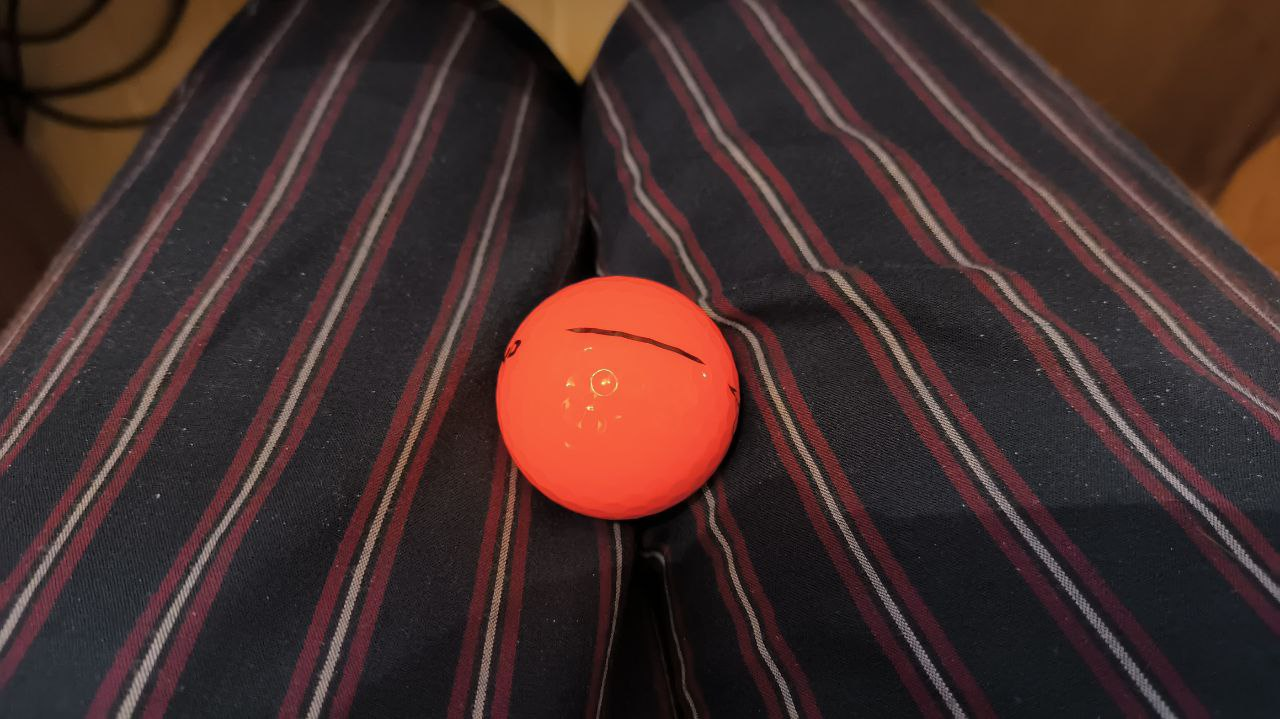orange_ball: (497, 276, 741, 520)
